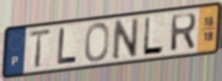L: (141, 16, 165, 57), (56, 26, 79, 67)
N: (112, 16, 140, 62)
O: (83, 21, 111, 64)
R: (169, 11, 198, 53)
T: (27, 27, 53, 70)
